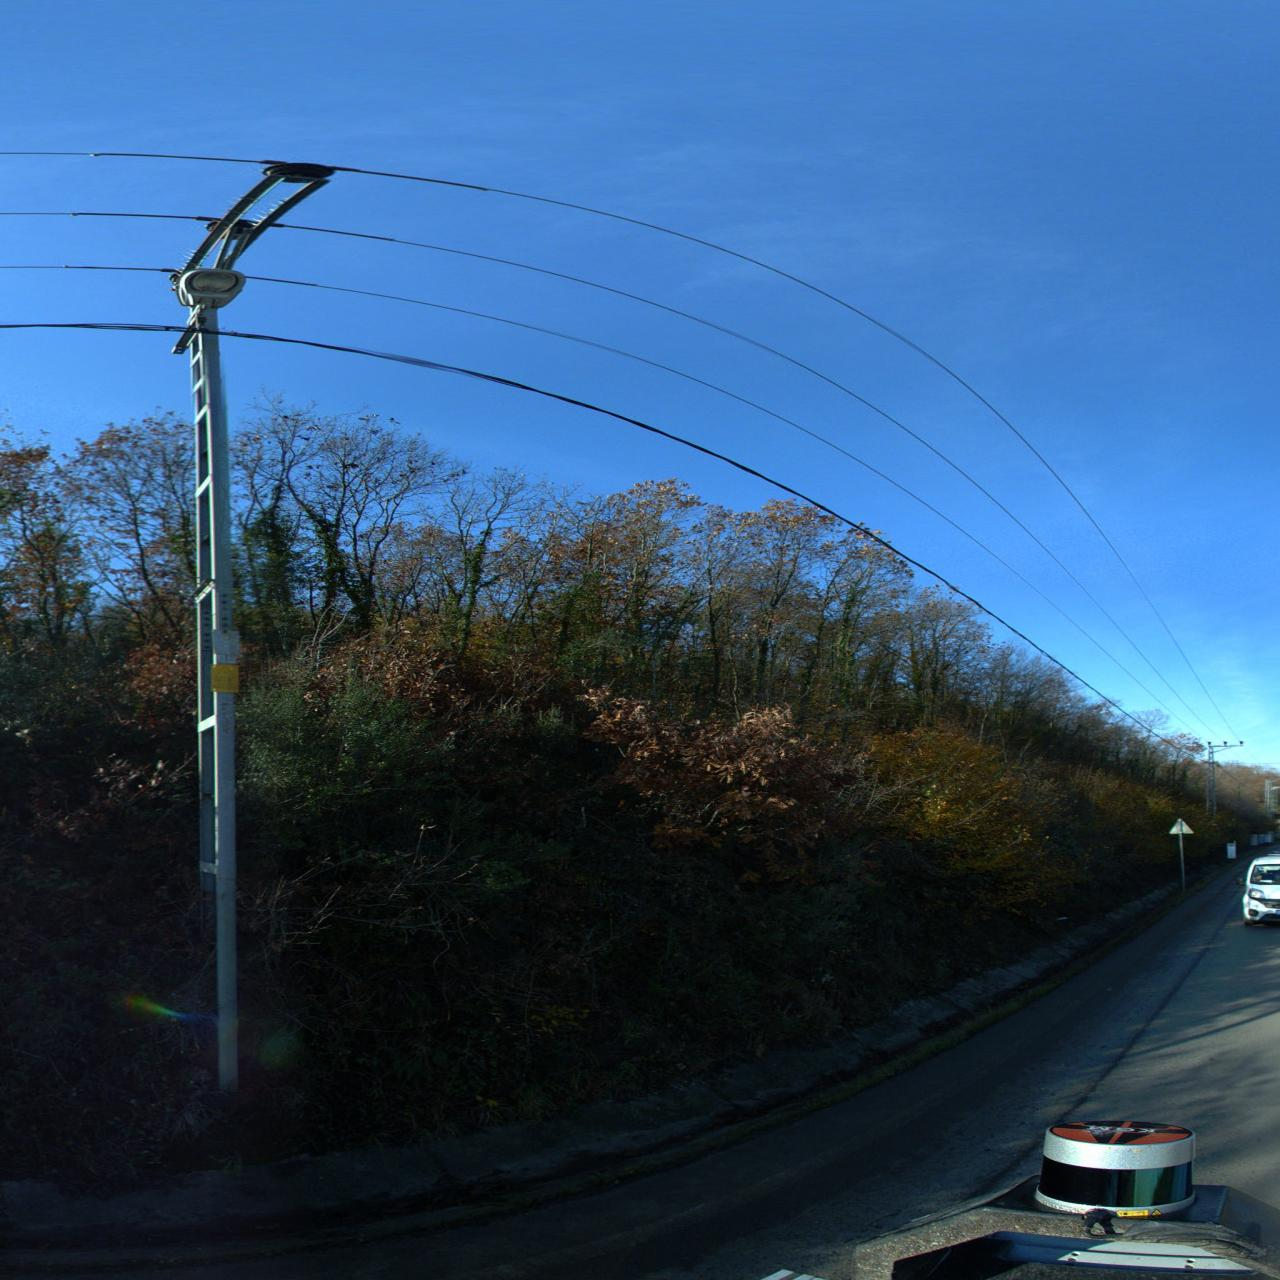Utility Pole Information Plate: (211, 663, 243, 694), (212, 628, 243, 655)
